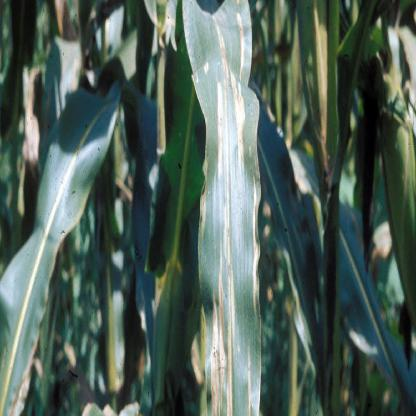Corn leaf blight: (182, 1, 261, 415)
